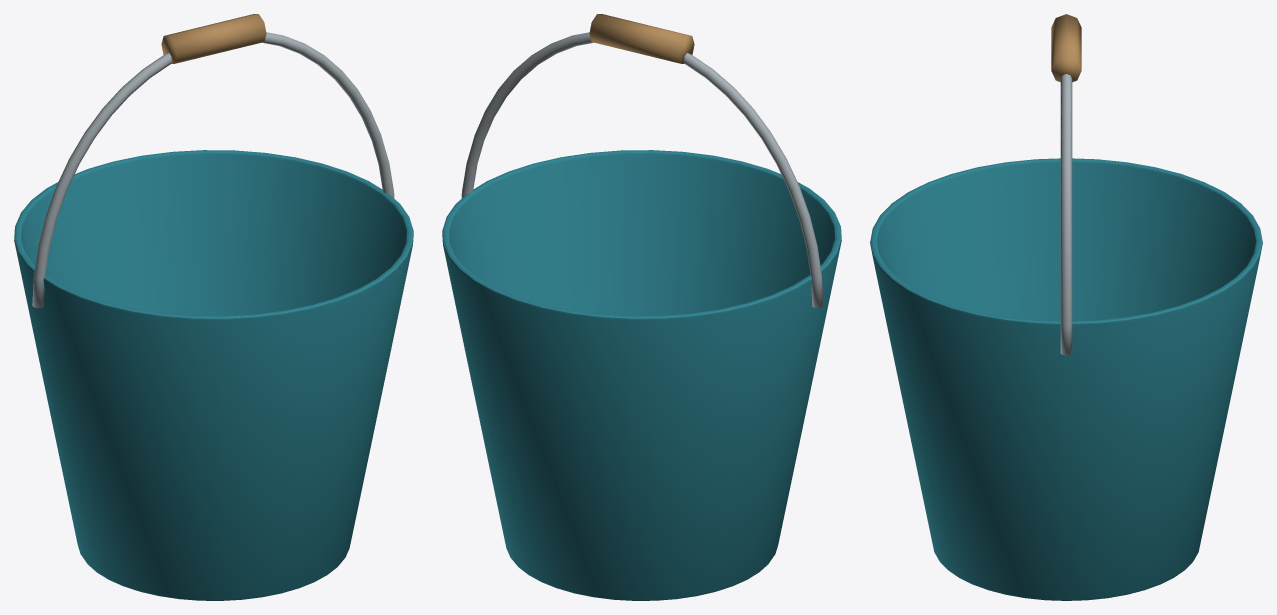
The model's file is blender-builders-bucket.glb.
3 renders of one model, left to right at view 1: azimuth 30°, elevation 25°; view 2: azimuth 150°, elevation 25°; view 3: azimuth 270°, elevation 25°, orthographic.
Visible parts, largest first — view 1: Hollow tapered enamel pail, Steel bail, Ash bail grip; view 2: Hollow tapered enamel pail, Steel bail, Ash bail grip; view 3: Hollow tapered enamel pail, Steel bail, Ash bail grip.
Boxes of the visible parts, x1,y1,x2,y2 form: Hollow tapered enamel pail: (14, 150, 413, 600); Steel bail: (32, 32, 394, 307); Ash bail grip: (161, 14, 266, 63); Hollow tapered enamel pail: (442, 150, 841, 600); Steel bail: (461, 32, 823, 307); Ash bail grip: (589, 14, 694, 63); Hollow tapered enamel pail: (870, 158, 1262, 600); Steel bail: (1060, 74, 1072, 355); Ash bail grip: (1051, 14, 1081, 82).
Size of the model in its own units: 0.323 by 0.443 by 0.3093.
